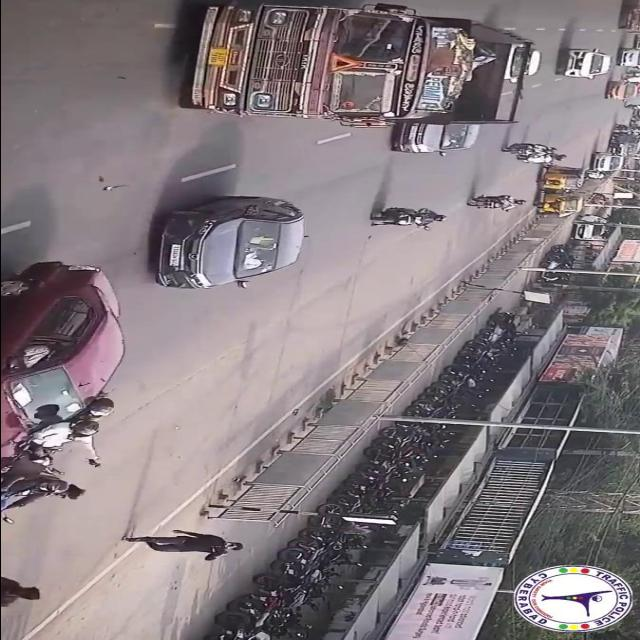accident: (0, 257, 135, 522)
non_accident: (164, 1, 542, 153), (584, 133, 640, 175), (500, 141, 570, 167)
